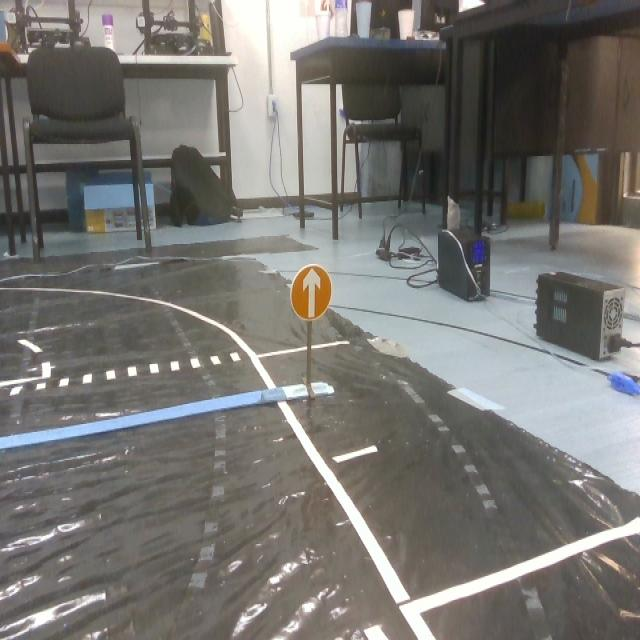right_turn: (288, 263, 334, 322)
